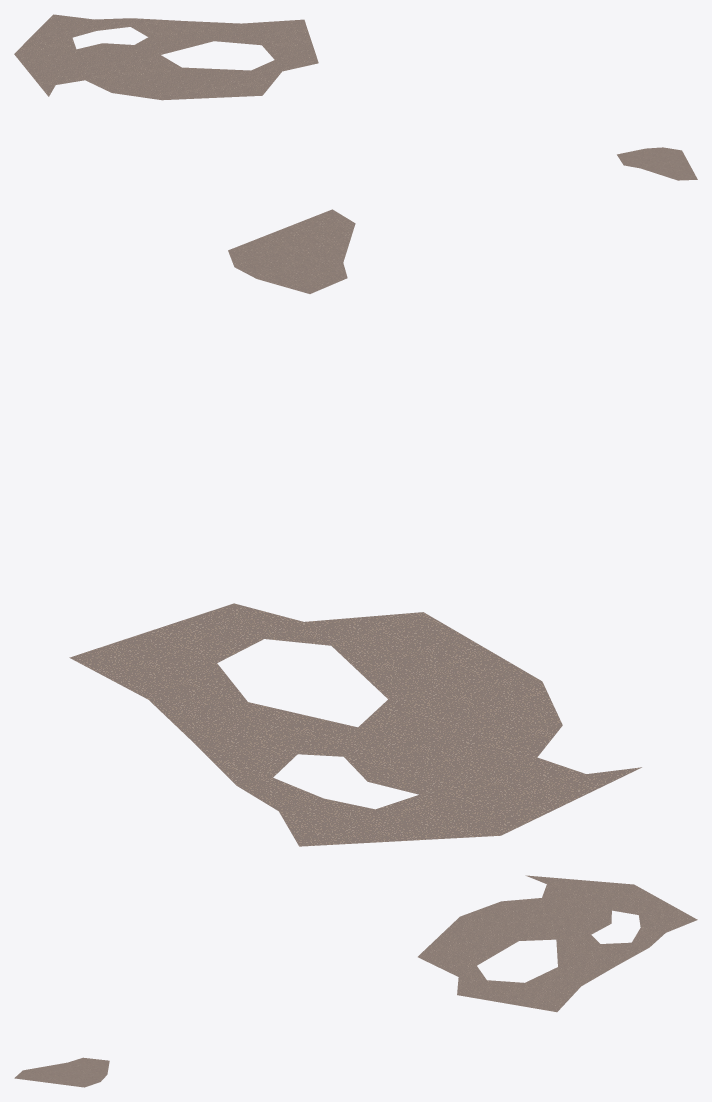
Rendered from kd_connection_world-inner_surface_10_13.glb.
The picture shows the model from 3 angles, top to bottom: view 1: azimuth 30°, elevation 25°; view 2: azimuth 150°, elevation 25°; view 3: azimuth 270°, elevation 25°; orthographic projection. The views are drawn at different scales.
Parts seen in each view (by area): view 1: kd_connection_world-inner_surface_10_13; view 2: kd_connection_world-inner_surface_10_13; view 3: kd_connection_world-inner_surface_10_13.
Boxes of the visible parts, x1,y1,x2,y2 form: kd_connection_world-inner_surface_10_13: (14, 14, 697, 180); kd_connection_world-inner_surface_10_13: (69, 209, 641, 846); kd_connection_world-inner_surface_10_13: (14, 875, 697, 1087).
Size of the model in its own units: 28.66 by 1.34e-05 by 39.04.
1 material, 1 textured.
